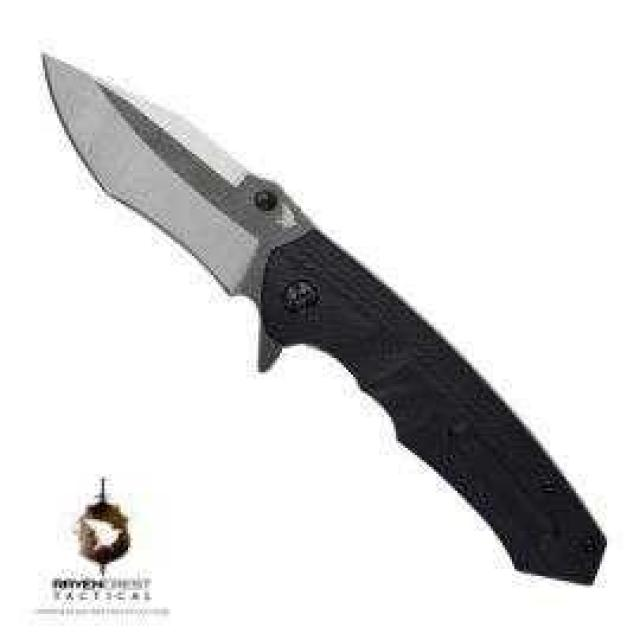Knife: (36, 53, 613, 598)
